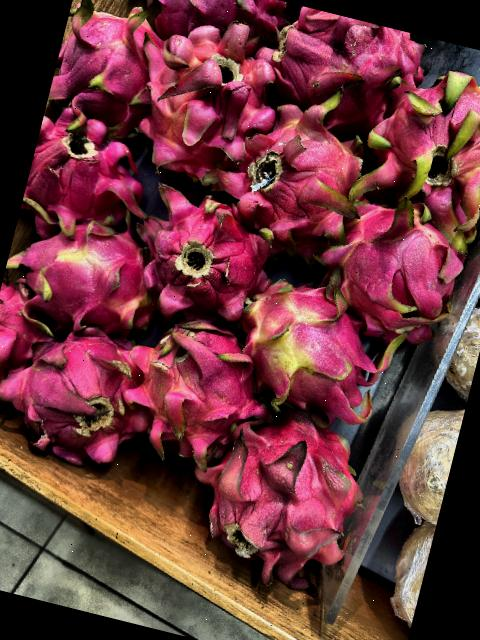buah-naga-belum-matang: (226, 267, 400, 432), (0, 199, 165, 341), (362, 50, 480, 240)
buah-naga-matang: (184, 392, 374, 595), (116, 5, 276, 186), (109, 301, 281, 469), (216, 84, 380, 257), (0, 309, 156, 475), (317, 191, 466, 345), (252, 0, 426, 129), (126, 176, 279, 320), (21, 90, 156, 234), (47, 0, 173, 124), (136, 0, 290, 49), (0, 275, 54, 414)
